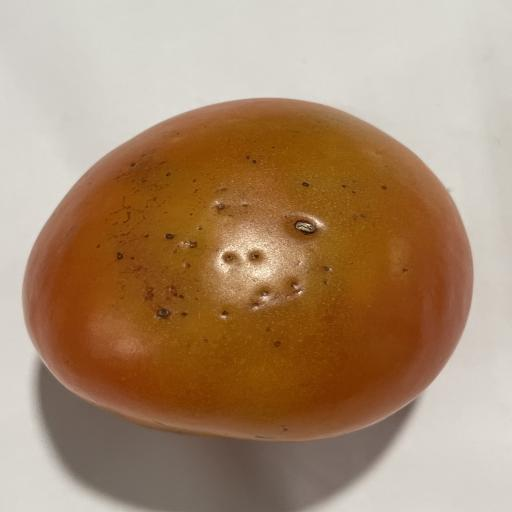unripe: (23, 99, 473, 442)
